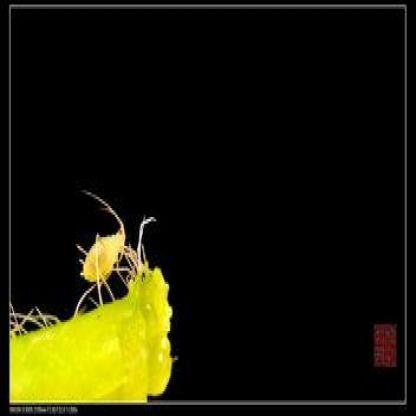aphid: (69, 191, 144, 311)
